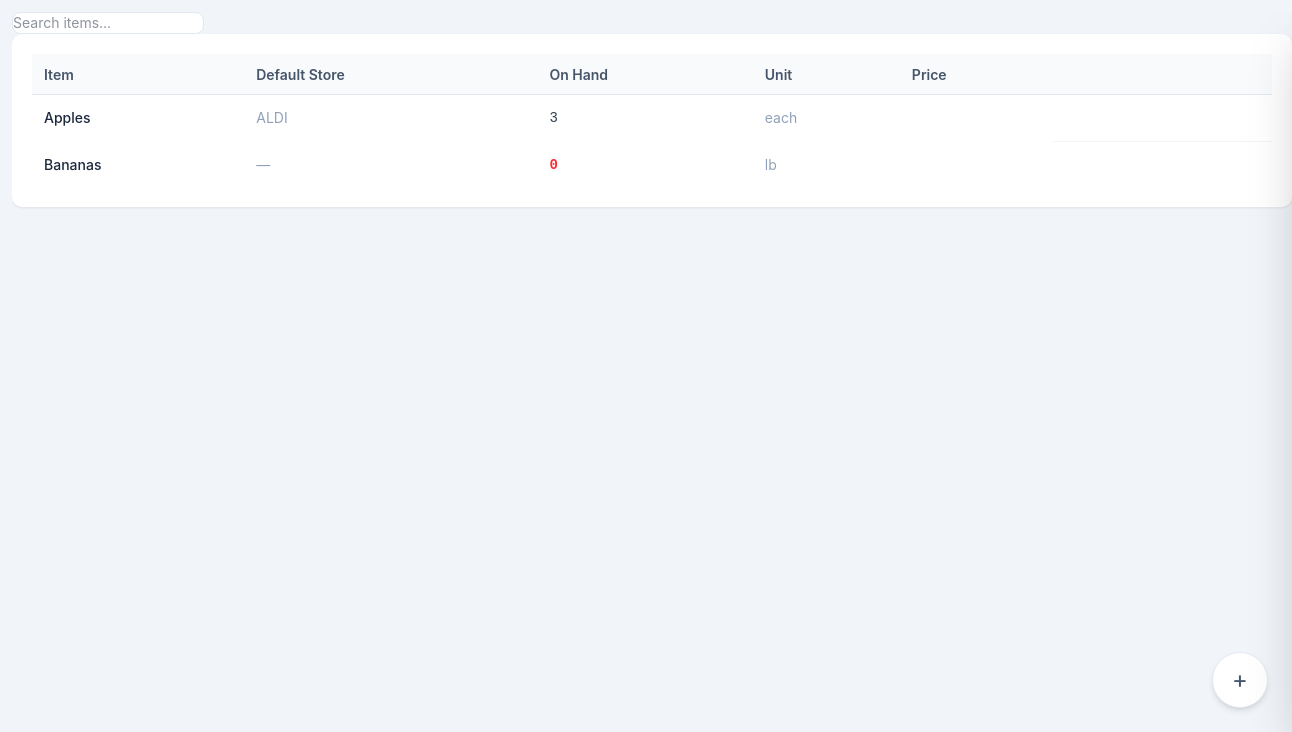
Test: OnHandView — inline edit row › opens editing UI on quantity click
Check: the text "Apples" is shown, box [32,95,244,141]
Click the text "3".
click(554, 118)  # box [537,95,753,141]
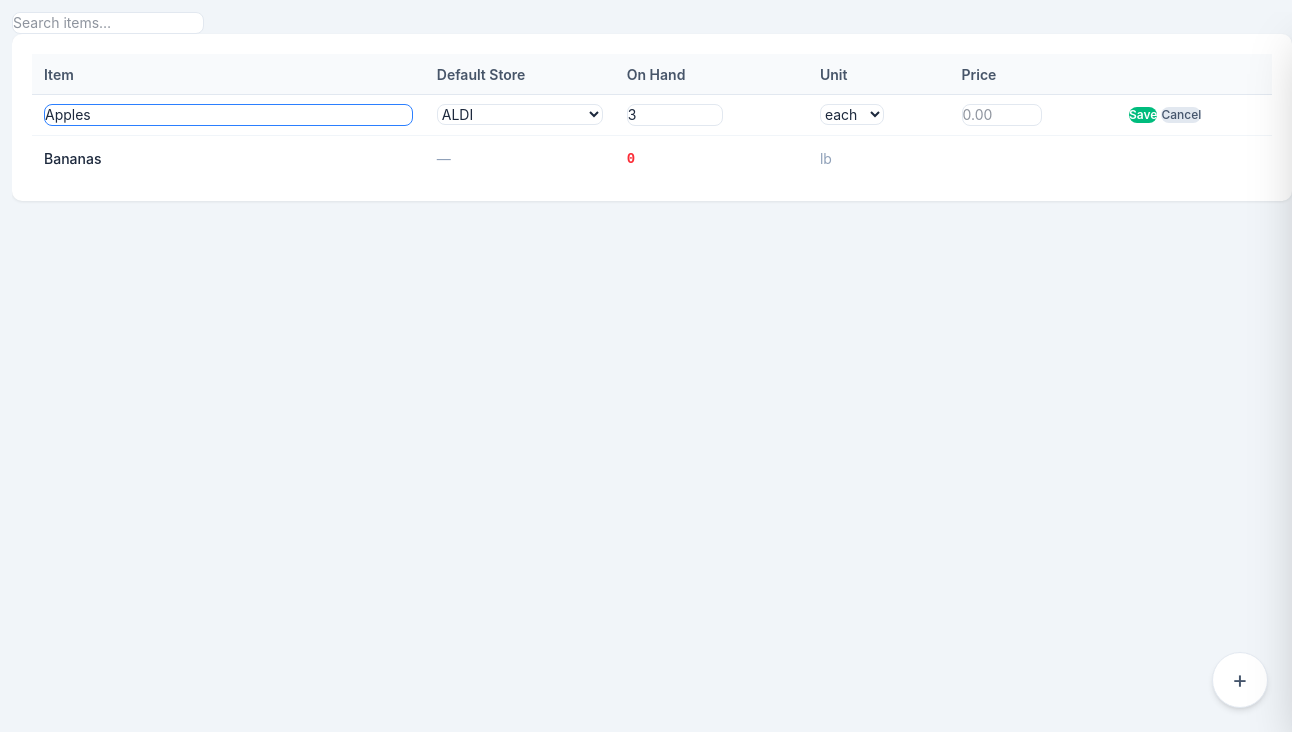
Check: the field showing "Apples" is shown, box [44,104,413,126]
